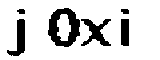0: (41, 8, 80, 48)
i: (118, 5, 139, 52)
j: (5, 4, 31, 58)
x: (81, 16, 110, 48)
